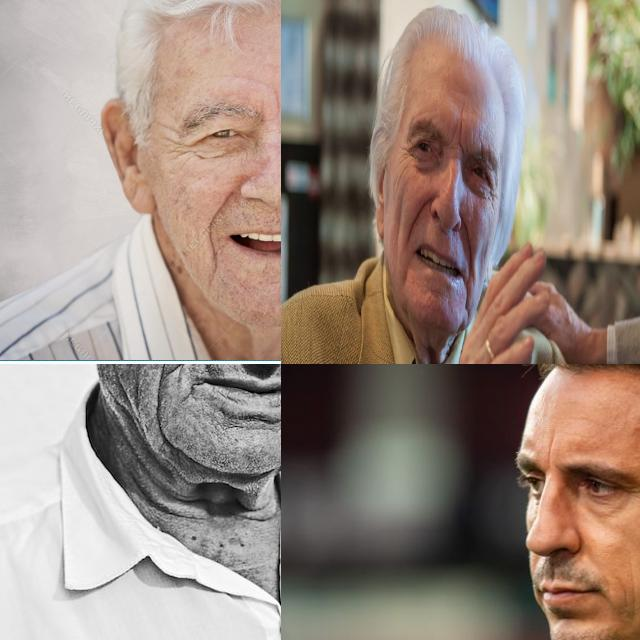chin: (231, 408, 273, 434)
crows_feet: (168, 136, 198, 160), (401, 138, 415, 166), (487, 182, 496, 209)
forehead: (412, 101, 434, 122), (478, 133, 486, 153)
frown_line: (541, 436, 555, 470), (271, 87, 281, 121), (457, 109, 465, 140), (458, 138, 467, 160)
gummy_smile: (208, 186, 234, 230), (408, 190, 431, 232), (462, 219, 475, 266)
masseter: (148, 372, 172, 442), (112, 377, 140, 433), (615, 574, 640, 611)
sad_smile: (204, 238, 224, 274), (178, 381, 202, 404), (462, 279, 470, 313)
